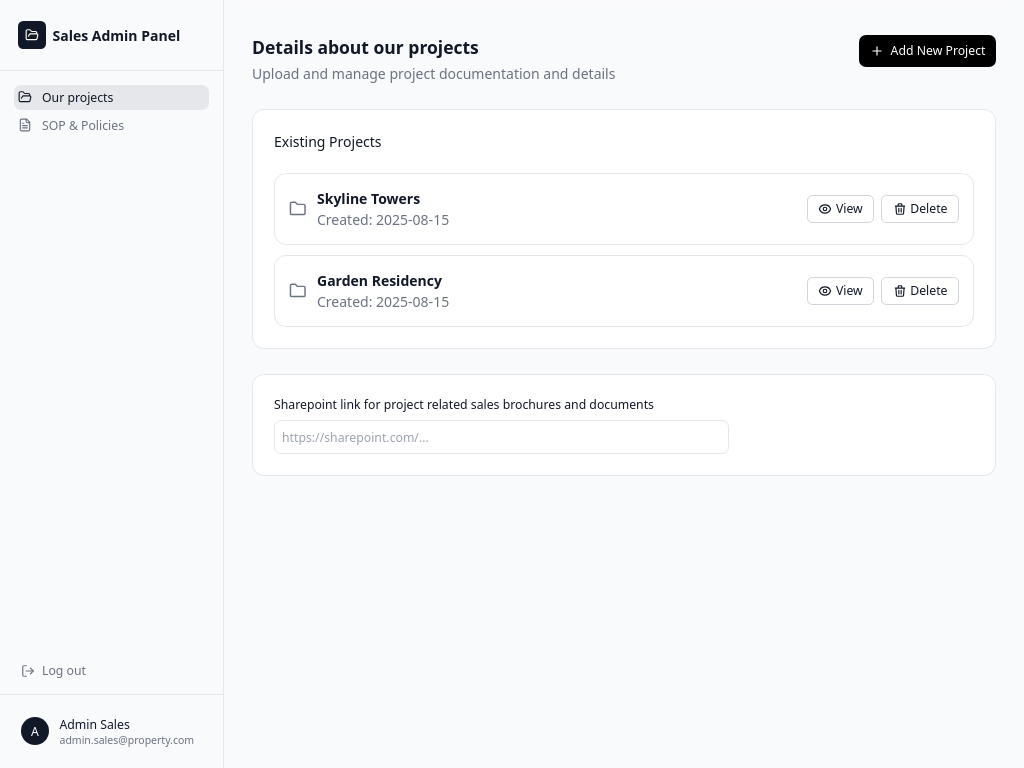
Test: Projects - Core flows › loads projects page with default projects and allows viewing details
The width and height of the screenshot is (1024, 768).
Expected: the text "Existing Projects" is shown, [274,132,382,150]
Expected: the text "Skyline Towers" is shown, [317,188,420,208]
Click the button "View" in the row of "Skyline Towers" at x=841, y=209, box [807,195,874,223]
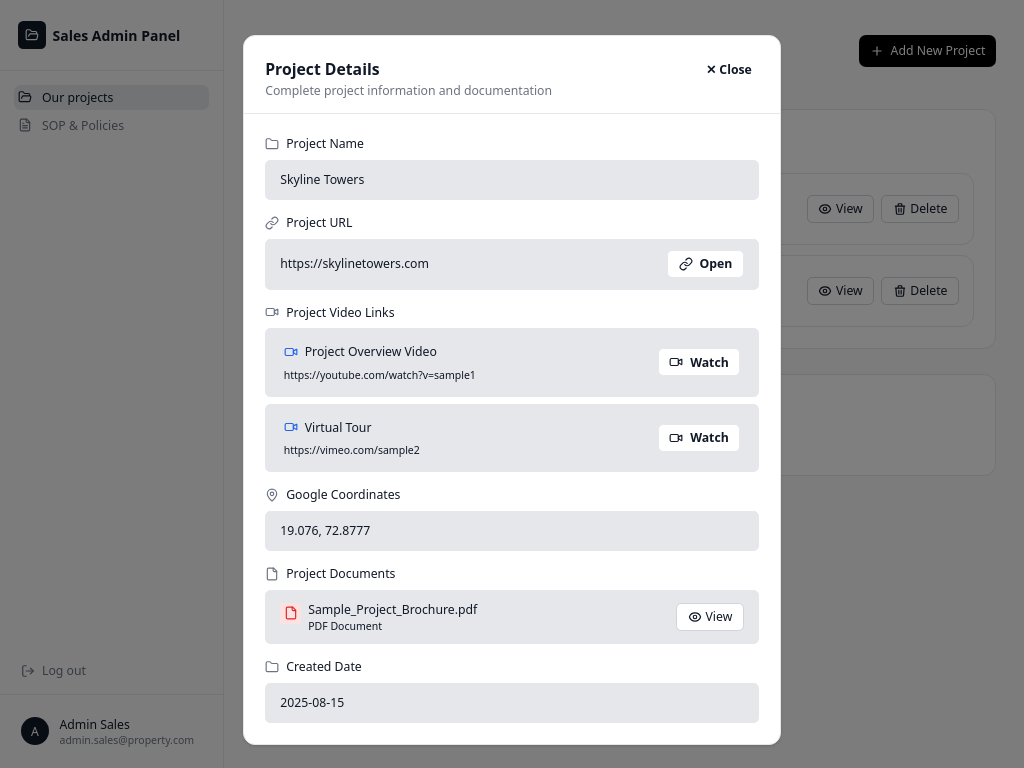
Now the dialog is shown
Click the button "✕ Close" at x=729, y=70, box [699,57,759,82]
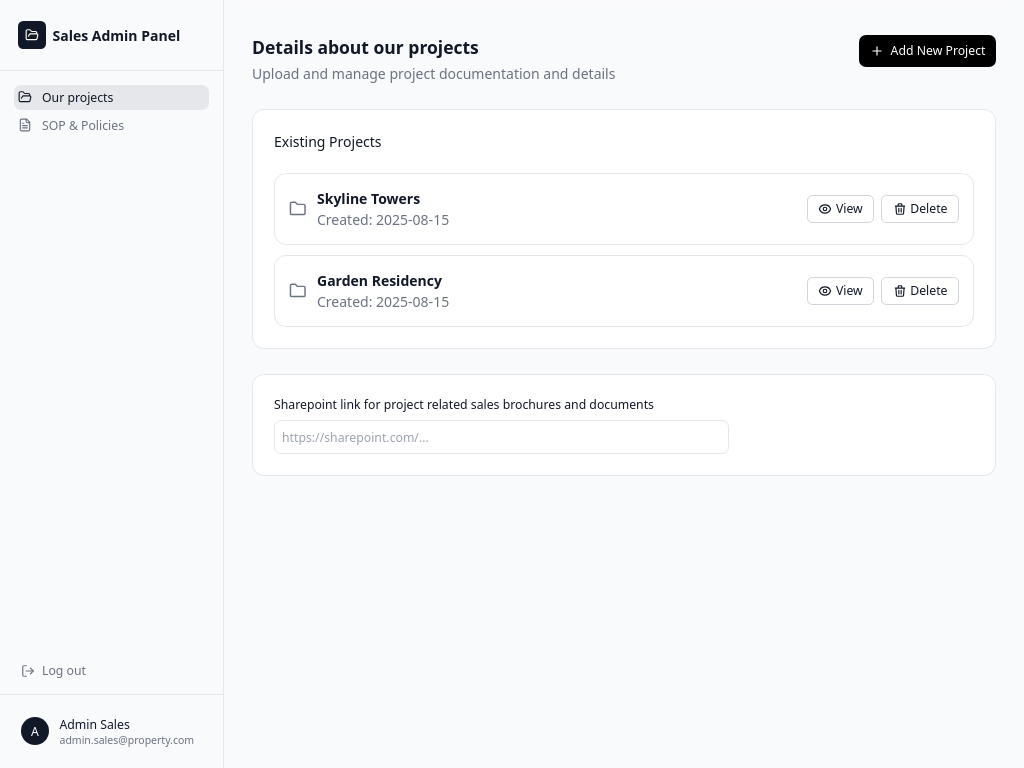
Now the dialog is gone
